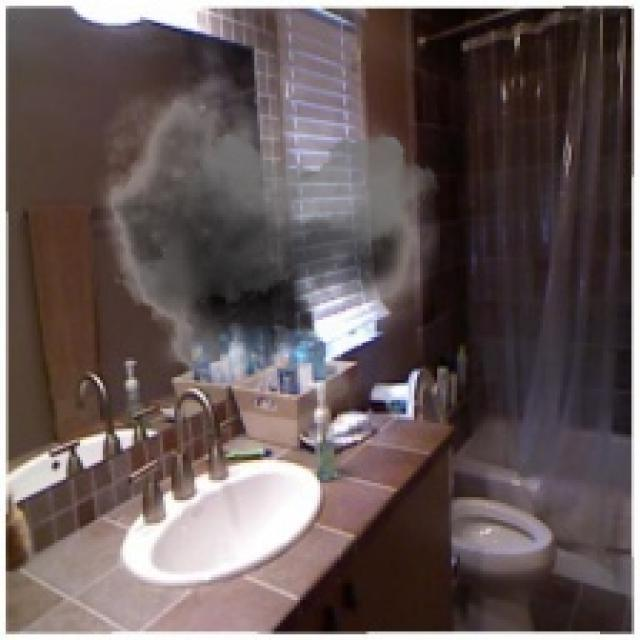Smoke: (83, 31, 440, 420)
